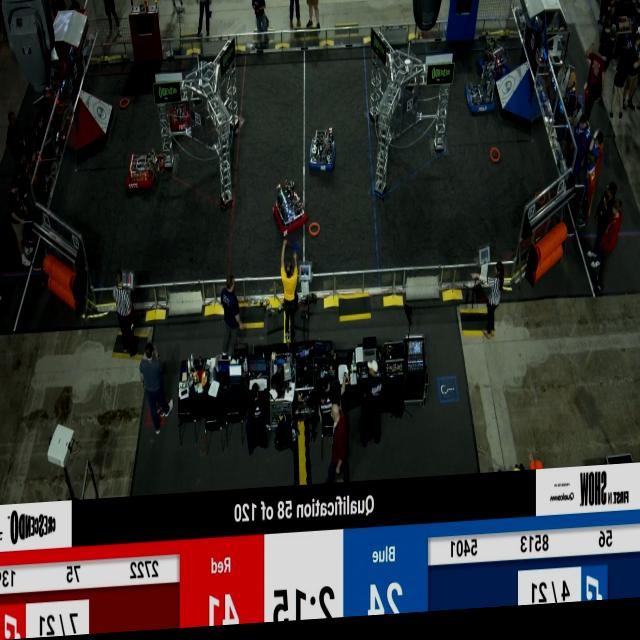Robot: (268, 180, 307, 241), (465, 68, 498, 123), (123, 147, 160, 195), (307, 128, 336, 180), (166, 81, 190, 138), (479, 42, 511, 81)
